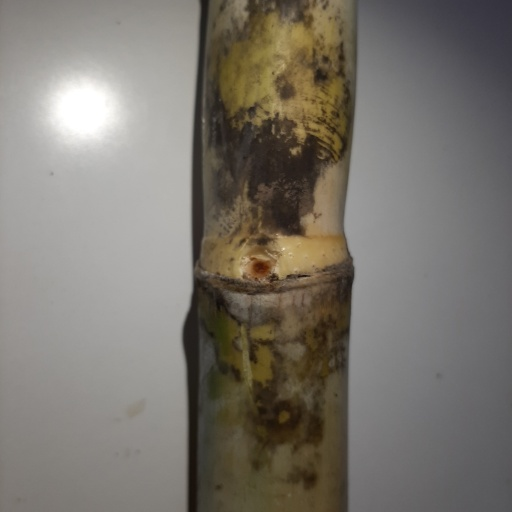Damage_Bud: (238, 256, 277, 282)
